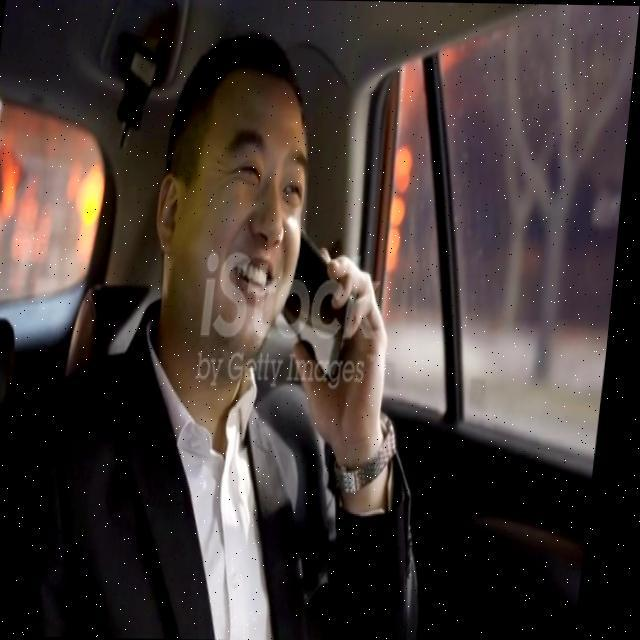PhoneCall: (284, 205, 368, 376)
